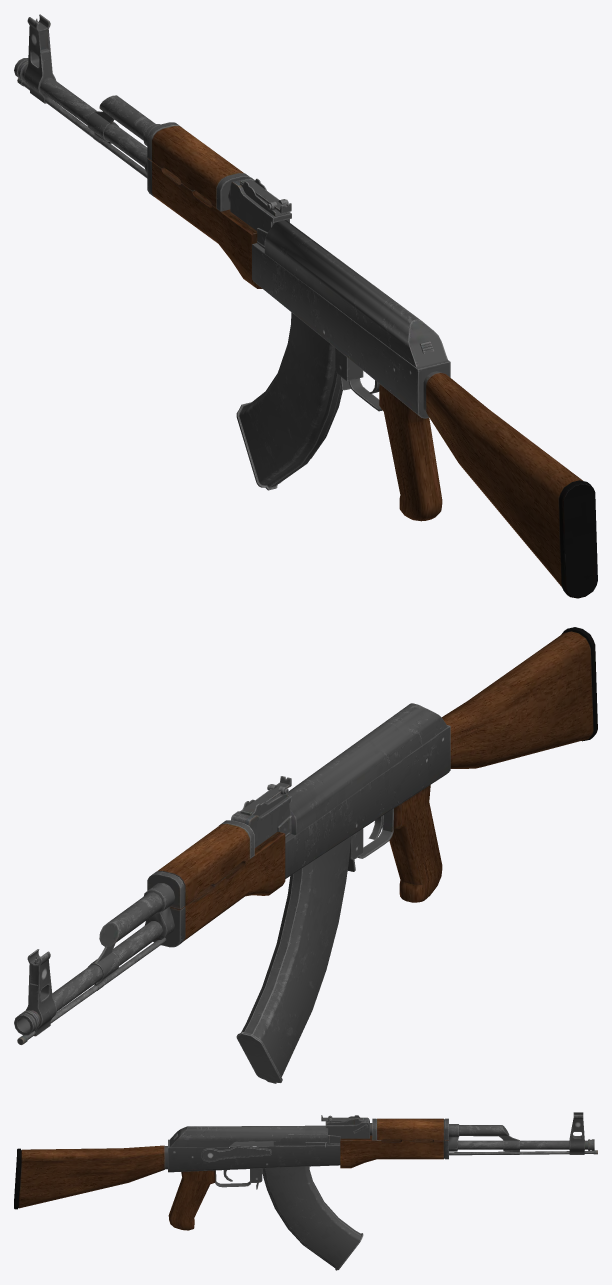
The picture shows the model from 3 angles, top to bottom: view 1: azimuth 30°, elevation 25°; view 2: azimuth 150°, elevation 25°; view 3: azimuth 270°, elevation 25°; orthographic projection. The views are drawn at different scales.
Parts seen in each view (by area): view 1: AK_47, Magazine; view 2: AK_47, Magazine; view 3: AK_47, Magazine, Selector_Switch, Ejection_Port.
Part boxes in pixels (x1,y1,x2,y2): AK_47: (14, 14, 597, 598); Magazine: (236, 312, 342, 490); AK_47: (14, 627, 597, 1044); Magazine: (236, 836, 350, 1083); AK_47: (14, 1112, 597, 1230); Magazine: (262, 1166, 363, 1270); Selector_Switch: (201, 1145, 271, 1162); Ejection_Port: (273, 1134, 327, 1148).
Size of the model in its own units: 0.0399 by 0.2582 by 0.8765.
Materials: 1 (1 with a texture image).
